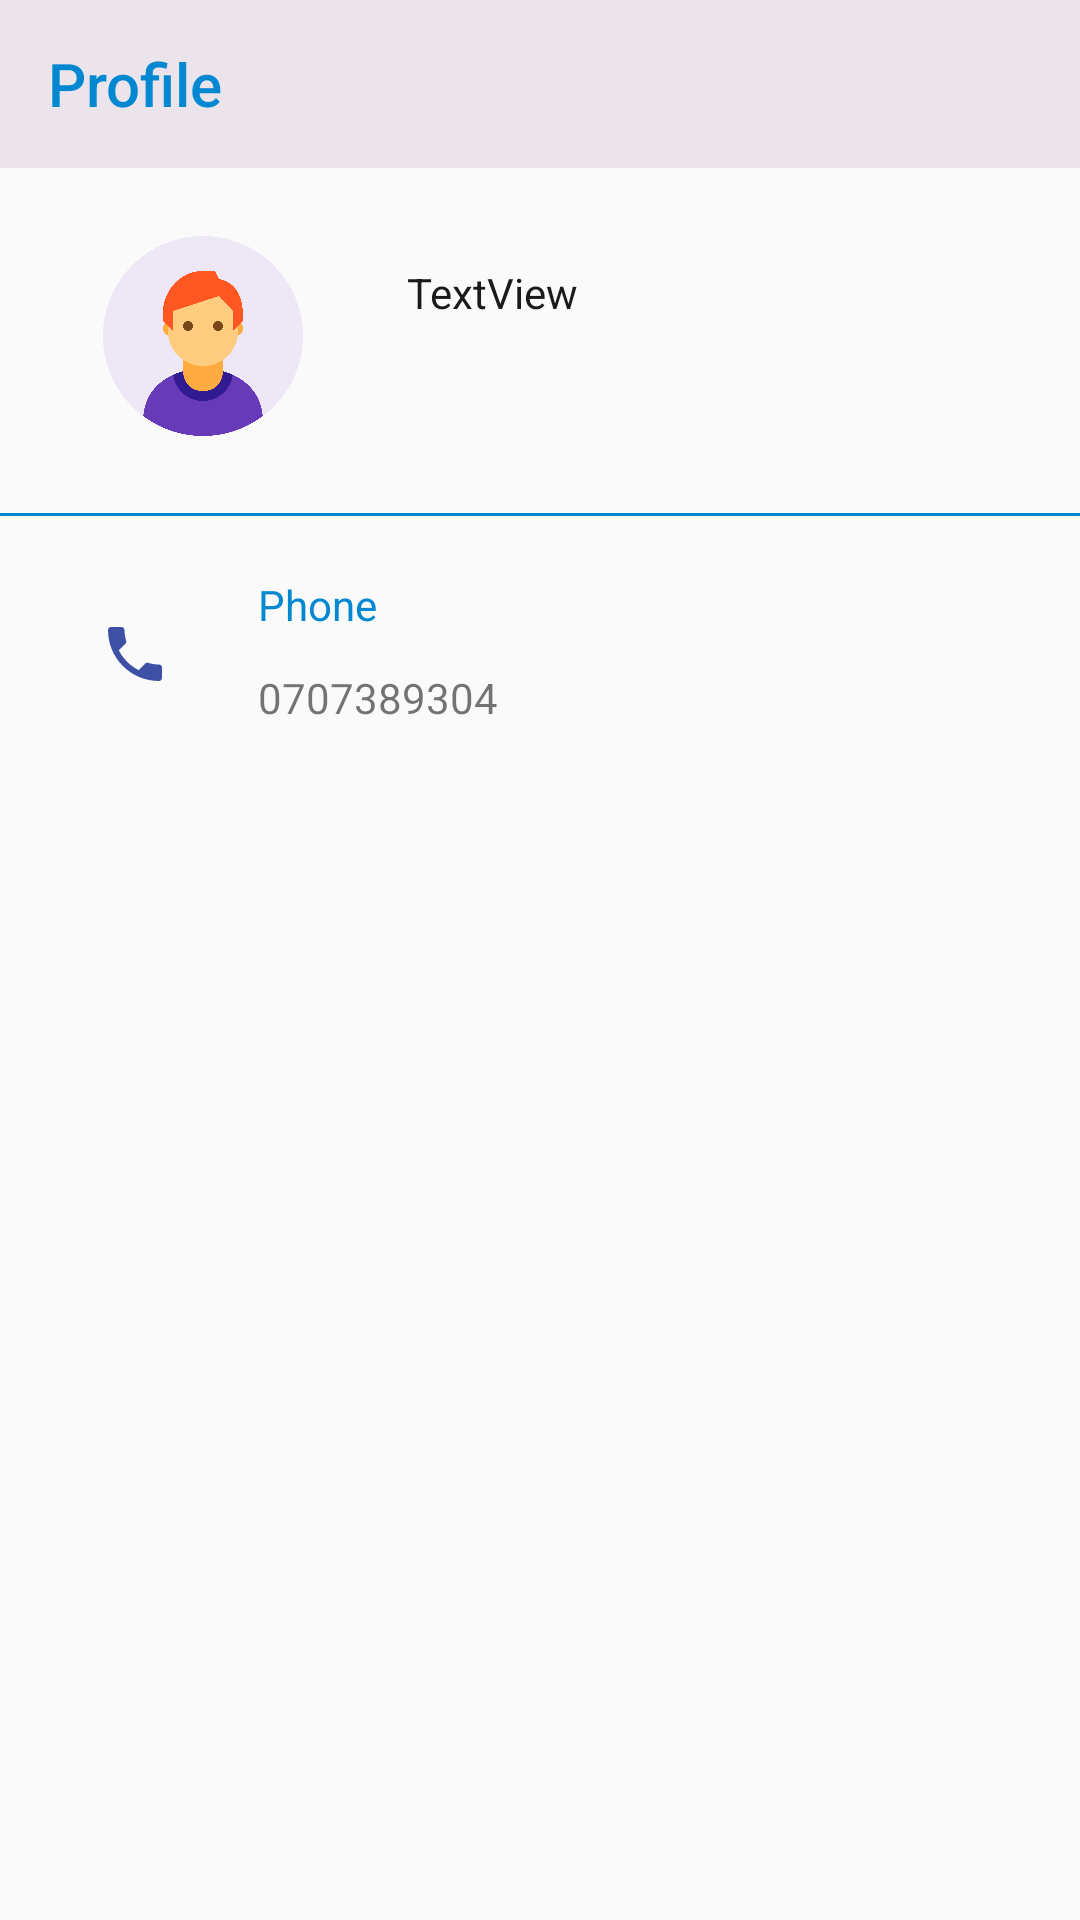

Point at icon controls on the screen. Image size 1080 x 1920, points as (x=x, y=y).
circleuser: (x=203, y=353)
